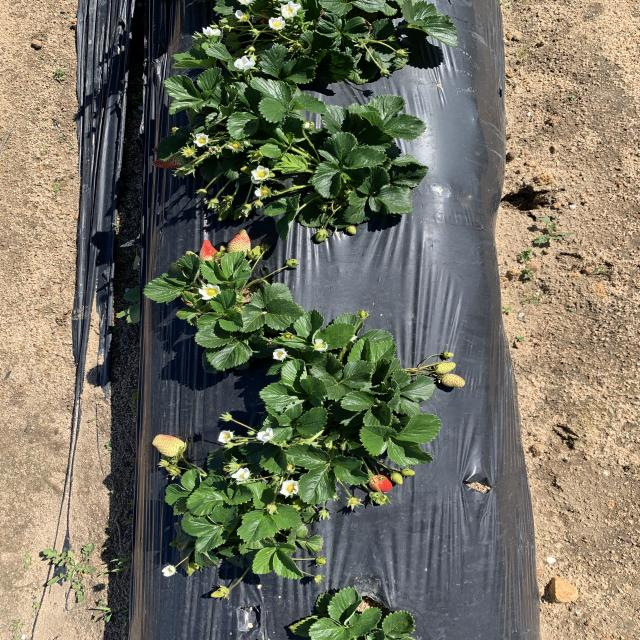unripe: (367, 474, 399, 494)
